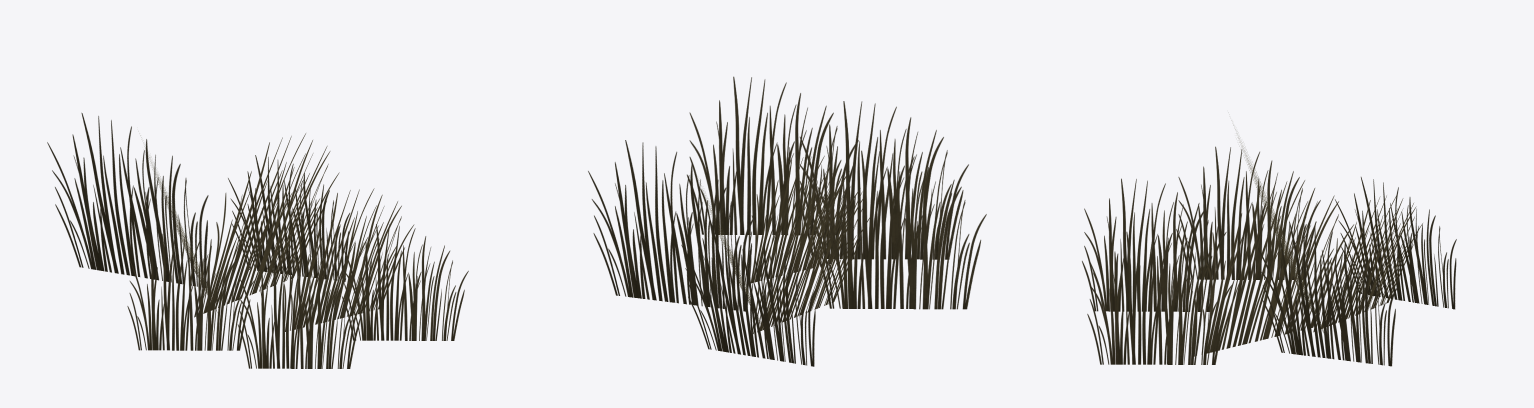
File: grass_chunk_hight.glb
3 renders of one model, left to right at view 1: azimuth 30°, elevation 25°; view 2: azimuth 150°, elevation 25°; view 3: azimuth 270°, elevation 25°, orthographic.
Parts seen in each view (by area): view 1: grass-anim.png__; view 2: grass-anim.png__; view 3: grass-anim.png__.
Boxes of the visible parts, bbox=[...] form: grass-anim.png__: bbox=[47, 113, 468, 368]; grass-anim.png__: bbox=[588, 76, 986, 366]; grass-anim.png__: bbox=[1082, 125, 1456, 366].
Size of the model in its own units: 5.74 by 2.71 by 6.09.
Materials: 1 (1 with a texture image).
